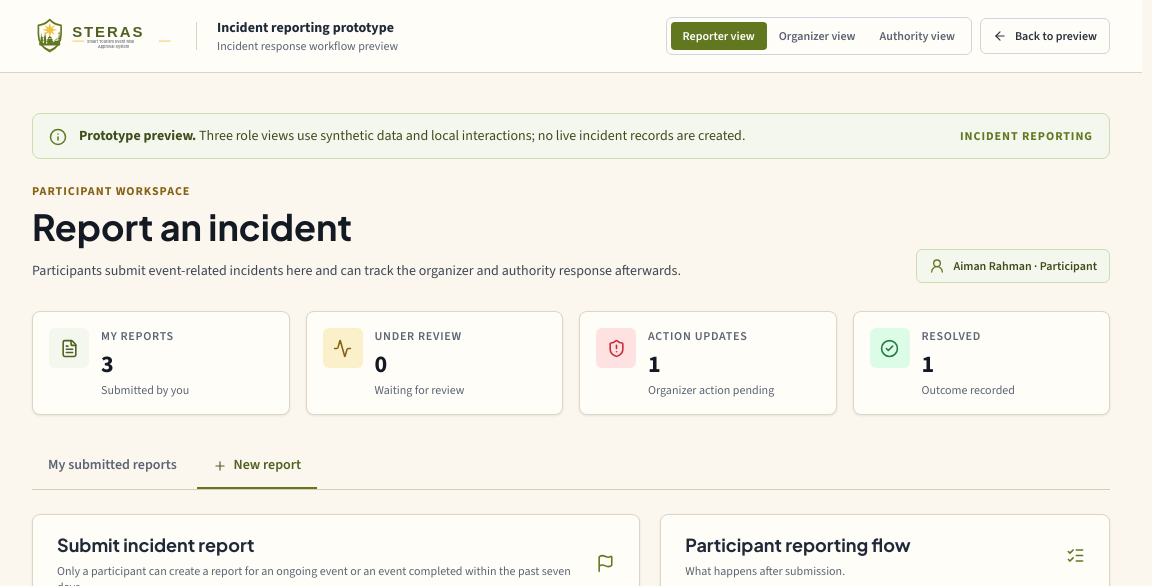
Test: IncidentReportingPrototype integration boundary › stays visibly synthetic while all three role previews remain reachable
Expected: the text "Three role views use synthetic data and local interactions" is shown, left=196, top=126, right=745, bottom=145
Expected: the heading "Report an incident" is shown, left=32, top=204, right=352, bottom=249
Click the button "Organizer view" at (817, 36), box left=767, top=22, right=868, bottom=50
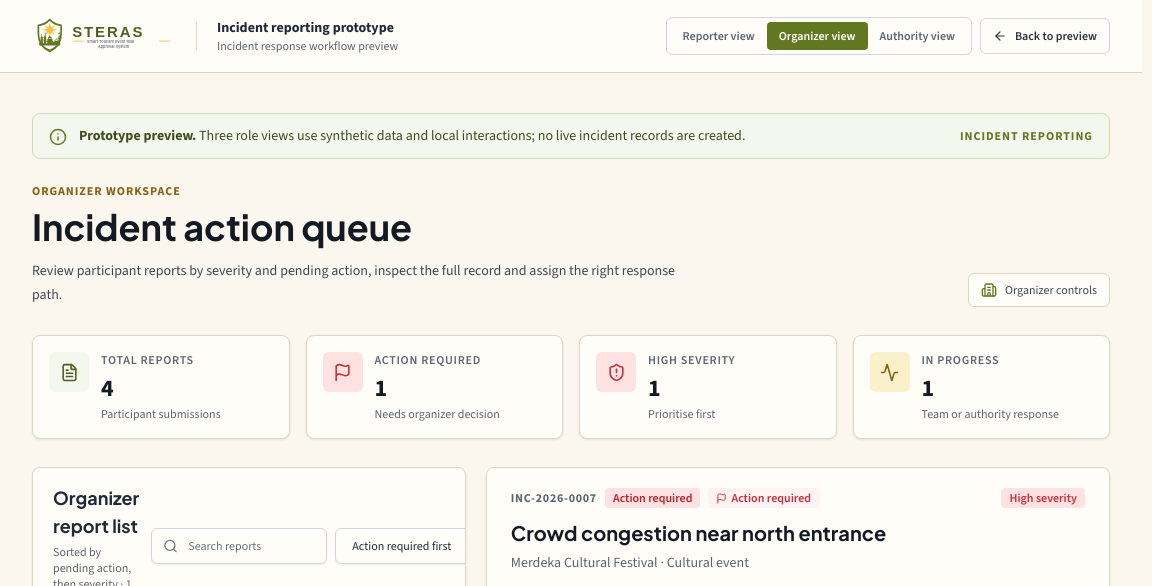
Result: the heading "Incident action queue" is shown at left=32, top=204, right=412, bottom=249
Click the button "Authority view" at (917, 36), box left=868, top=22, right=967, bottom=50
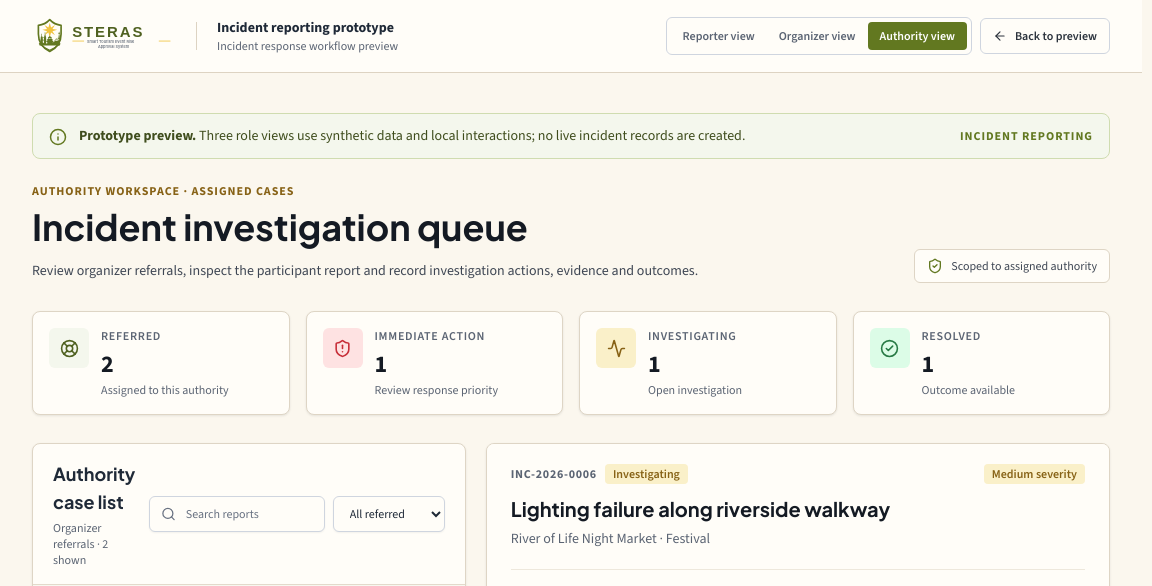
Result: the heading "Incident investigation queue" is shown at left=32, top=204, right=528, bottom=249
